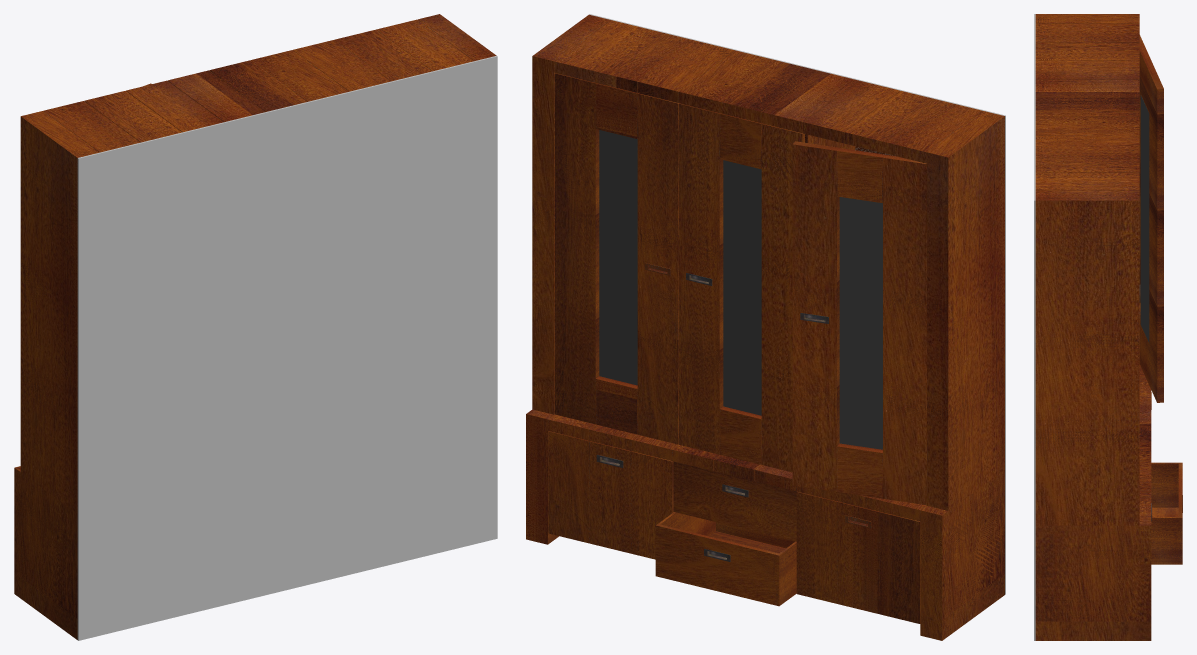
3 views of the same model, side by side, from view 1: azimuth 30°, elevation 25°; view 2: azimuth 150°, elevation 25°; view 3: azimuth 270°, elevation 25° (orthographic). The views are drawn at different scales.
Visible parts, largest first — view 1: mesh110_mesh110-geometry, mesh73_mesh73-geometry, mesh2_mesh2-geometry; view 2: mesh73_mesh73-geometry, mesh129_mesh129-geometry, mesh113_mesh113-geometry, mesh1_mesh1-geometry, mesh121_mesh121-geometry, mesh2_mesh2-geometry, mesh51_mesh51-geometry, mesh48_mesh48-geometry, mesh42_mesh42-geometry, mesh37_mesh37-geometry, mesh110_mesh110-geometry; view 3: mesh73_mesh73-geometry, mesh2_mesh2-geometry, mesh129_mesh129-geometry, mesh42_mesh42-geometry, mesh1_mesh1-geometry, mesh110_mesh110-geometry.
Part boxes in pixels (x1=…): mesh110_mesh110-geometry: x1=77, y1=55, x2=497, y2=640; mesh73_mesh73-geometry: x1=20, y1=14, x2=496, y2=513; mesh2_mesh2-geometry: x1=14, y1=466, x2=77, y2=639; mesh73_mesh73-geometry: x1=532, y1=14, x2=1004, y2=510; mesh129_mesh129-geometry: x1=792, y1=141, x2=926, y2=505; mesh113_mesh113-geometry: x1=554, y1=73, x2=678, y2=444; mesh1_mesh1-geometry: x1=599, y1=130, x2=882, y2=449; mesh121_mesh121-geometry: x1=679, y1=103, x2=804, y2=472; mesh2_mesh2-geometry: x1=526, y1=409, x2=1004, y2=640; mesh51_mesh51-geometry: x1=796, y1=491, x2=920, y2=623; mesh48_mesh48-geometry: x1=548, y1=431, x2=673, y2=559; mesh42_mesh42-geometry: x1=655, y1=512, x2=796, y2=606; mesh37_mesh37-geometry: x1=673, y1=461, x2=796, y2=541; mesh110_mesh110-geometry: x1=589, y1=14, x2=1005, y2=594; mesh73_mesh73-geometry: x1=1035, y1=14, x2=1139, y2=525; mesh2_mesh2-geometry: x1=1035, y1=364, x2=1151, y2=640; mesh129_mesh129-geometry: x1=1139, y1=35, x2=1163, y2=402; mesh42_mesh42-geometry: x1=1151, y1=462, x2=1182, y2=564; mesh1_mesh1-geometry: x1=1140, y1=95, x2=1149, y2=342; mesh110_mesh110-geometry: x1=1034, y1=14, x2=1035, y2=640.
Bounding box in the file's own units: 0.6562 × 0.7215 × 0.2212.
